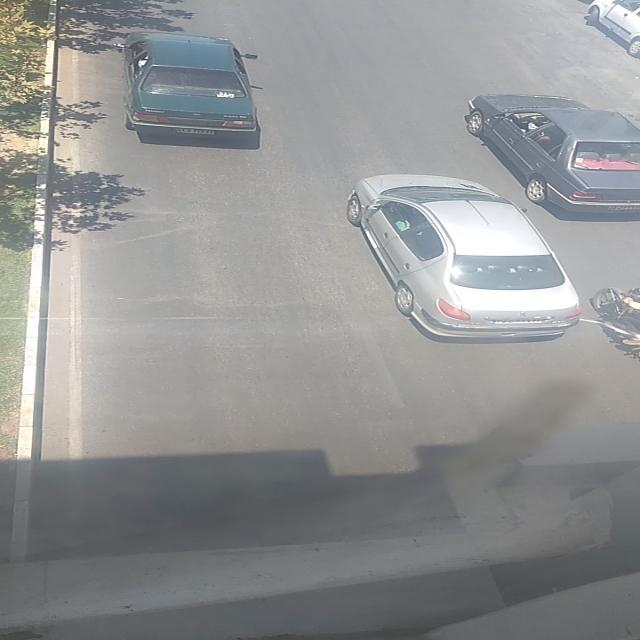car: (344, 174, 584, 340), (462, 94, 640, 218), (111, 35, 263, 135), (586, 0, 640, 58)
